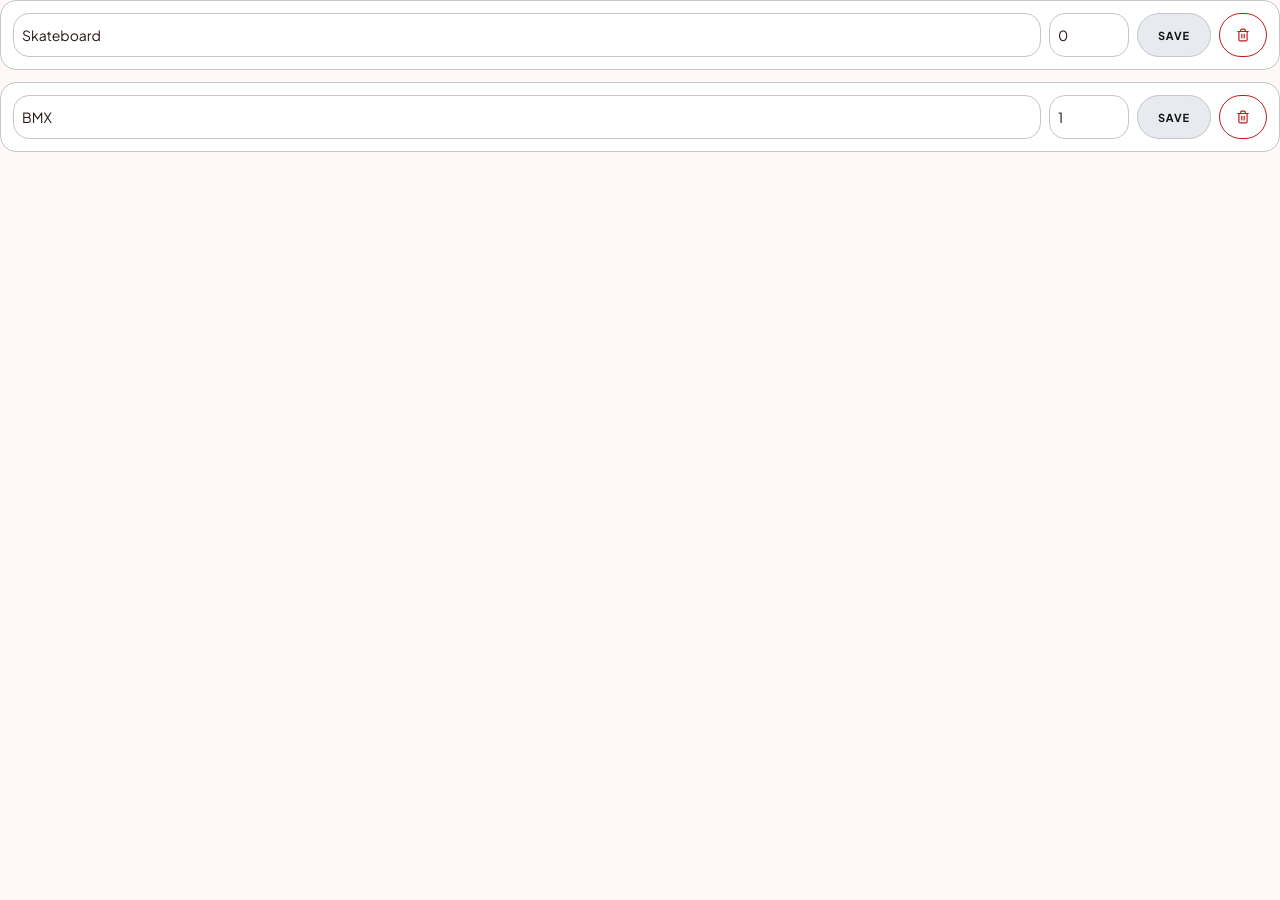
Test: SportsSection › opens delete confirmation
Click the button named "Delete Skateboard" at (1243, 35), box [1219,13,1267,57]
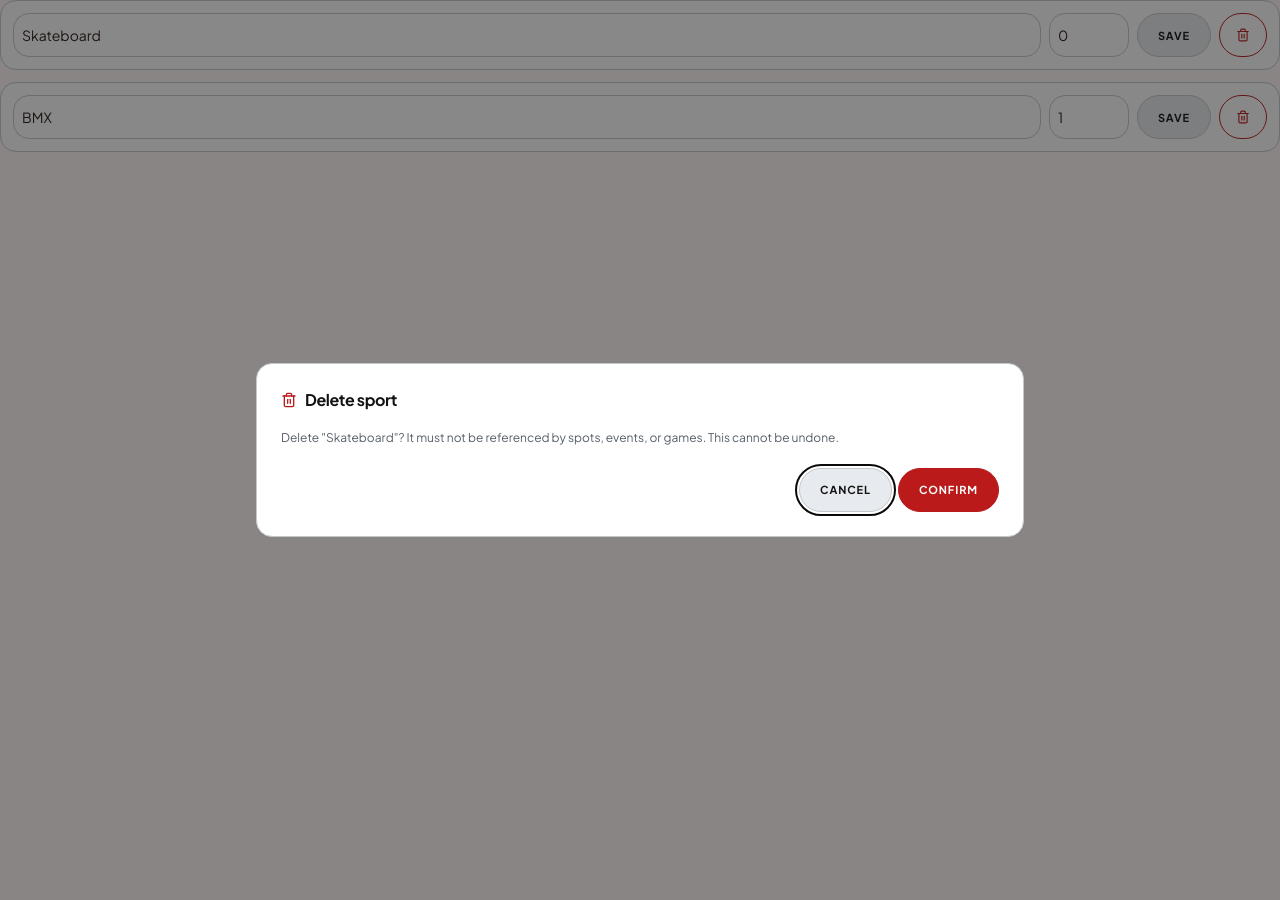
Check: the dialog is shown, box [256,363,1024,537]
Check: the text "Delete \"Skateboard\"" is shown, box [281,430,839,445]
